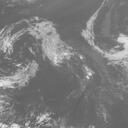cyclone: (13, 25, 81, 82)
